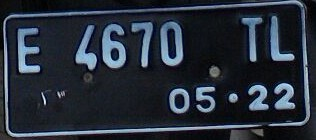plate: (3, 1, 311, 134)
